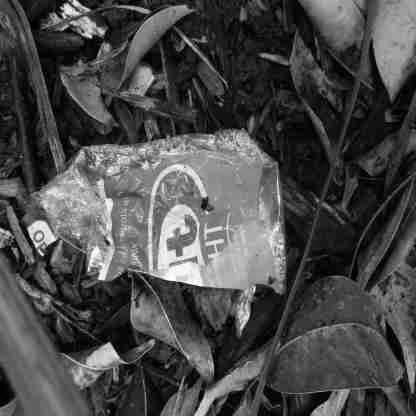plastic: (23, 124, 290, 296)
